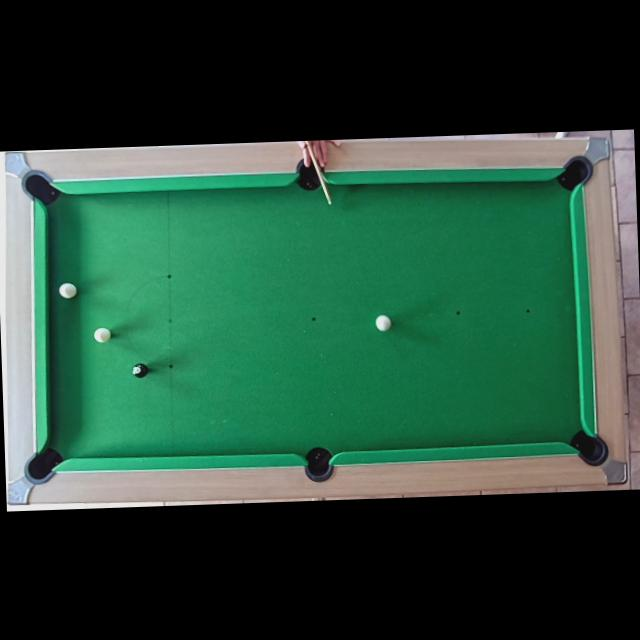Ball: (94, 326, 112, 343), (374, 314, 391, 332), (58, 283, 76, 299), (131, 362, 146, 377)
